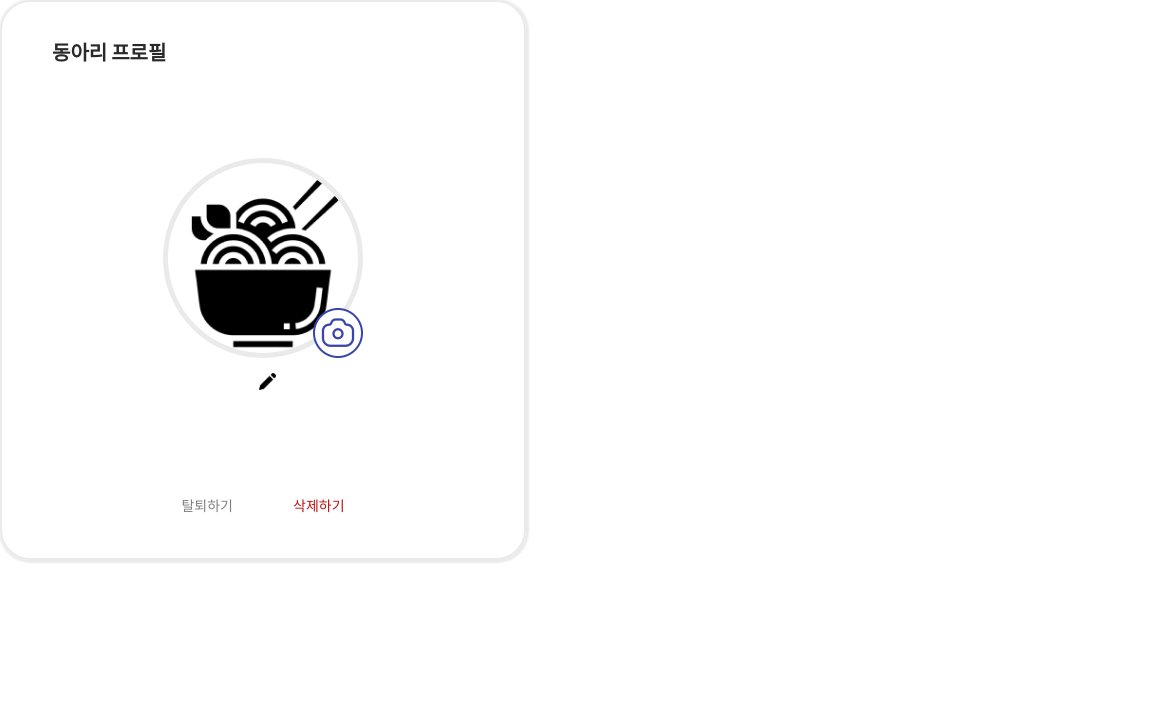
Scenario: <ClubProfileView/> › should test on click delete
What coordinates should you click on to do the following:
click the text "삭제하기"
I would click on:
 (319, 506)
Its box is [293,495,344,517].
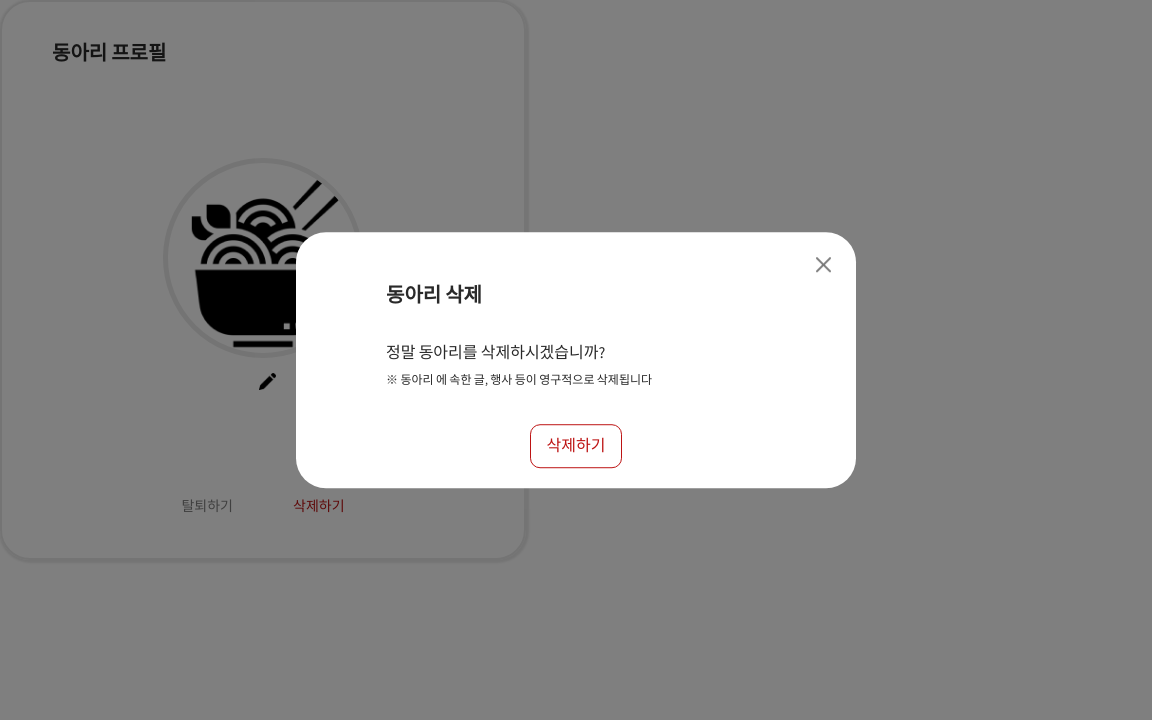
Result: the text "동아리 삭제" is shown at [386,279,482,311]
